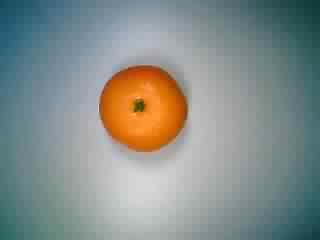orange: (95, 59, 192, 153)
